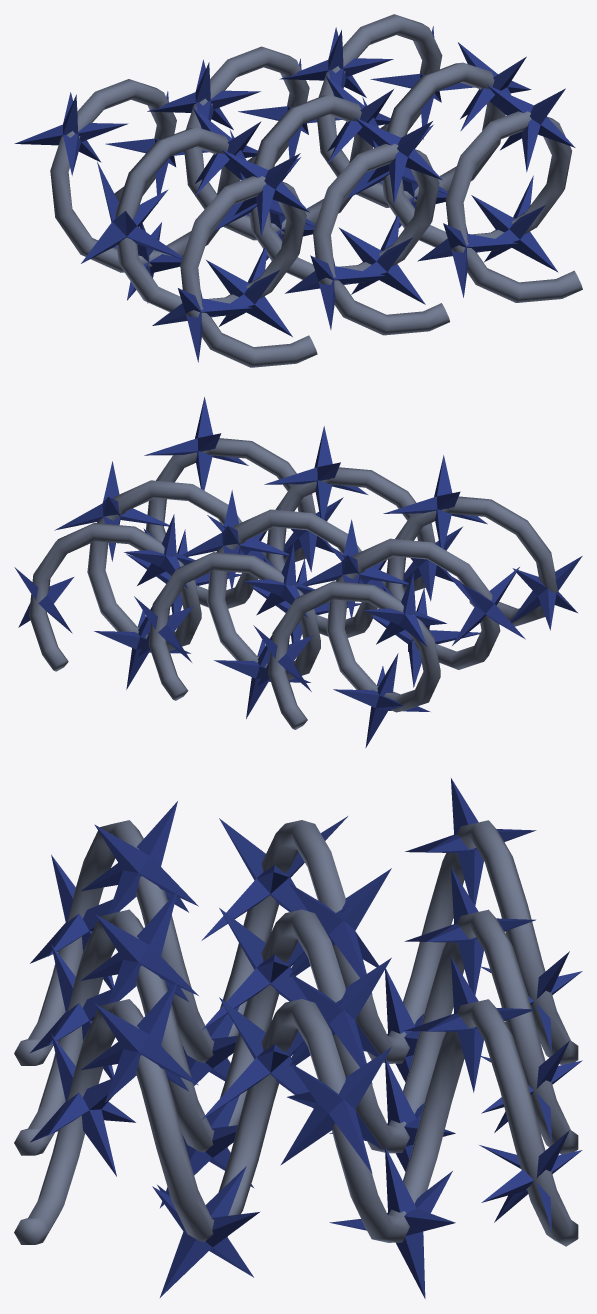
The model's file is Barbwire.fbx.
3 renders of one model, top to bottom at view 1: azimuth 30°, elevation 25°; view 2: azimuth 150°, elevation 25°; view 3: azimuth 270°, elevation 25°, orthographic. The views are drawn at different scales.
Visible parts, largest first — view 1: Barbwire; view 2: Barbwire; view 3: Barbwire.
Boxes of the visible parts, bbox=[...] form: Barbwire: bbox=[14, 14, 582, 367]; Barbwire: bbox=[14, 397, 582, 747]; Barbwire: bbox=[14, 778, 582, 1298].
Size of the model in its own units: 1.1 by 0.4985 by 0.8062.
1 material, 1 textured.
